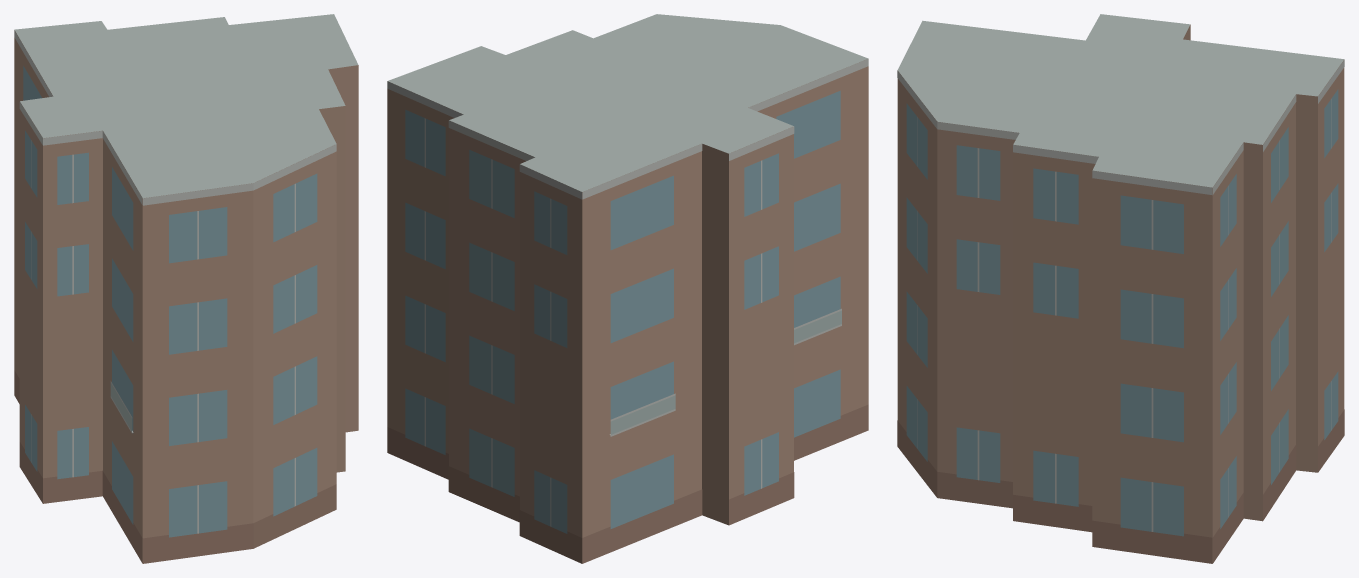
File: survey-upis-32709246.glb
3 renders of one model, left to right at view 1: azimuth 30°, elevation 25°; view 2: azimuth 150°, elevation 25°; view 3: azimuth 270°, elevation 25°, orthographic. The views are drawn at different scales.
Parts seen in each view (by area): view 1: survey-upis-32709246.tmp; view 2: survey-upis-32709246.tmp; view 3: survey-upis-32709246.tmp.
Boxes of the visible parts, x1,y1,x2,y2 form: survey-upis-32709246.tmp: [14, 14, 358, 563]; survey-upis-32709246.tmp: [387, 14, 868, 563]; survey-upis-32709246.tmp: [897, 14, 1344, 563].
Size of the model in its own units: 11.88 by 12 by 12.93.
